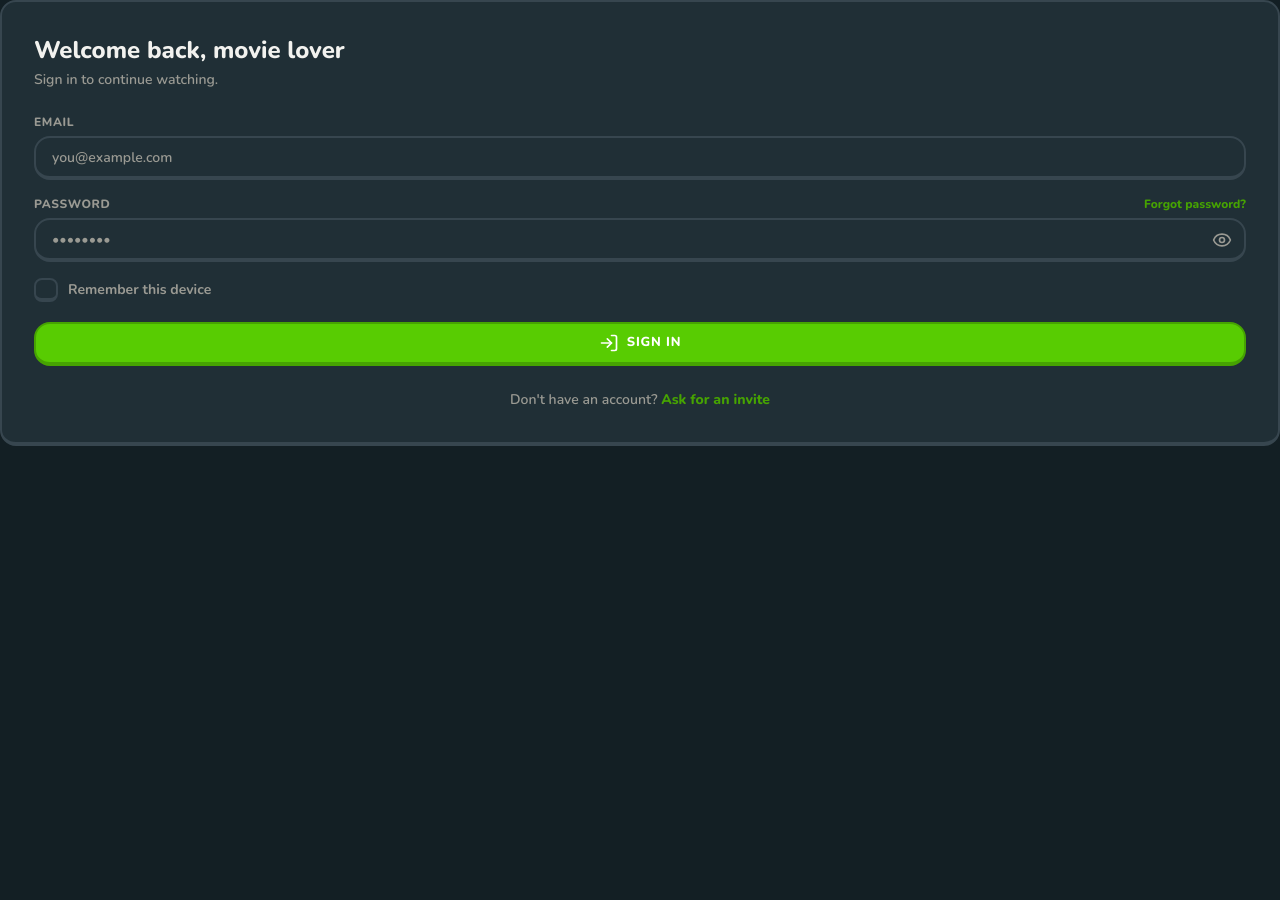
Scenario: ViewerLoginForm › opens the ask-for-invite dialog with admin contact info instead of navigating
Click the button "Ask for an invite" at {"x": 716, "y": 400}, box [661,390,770,410]
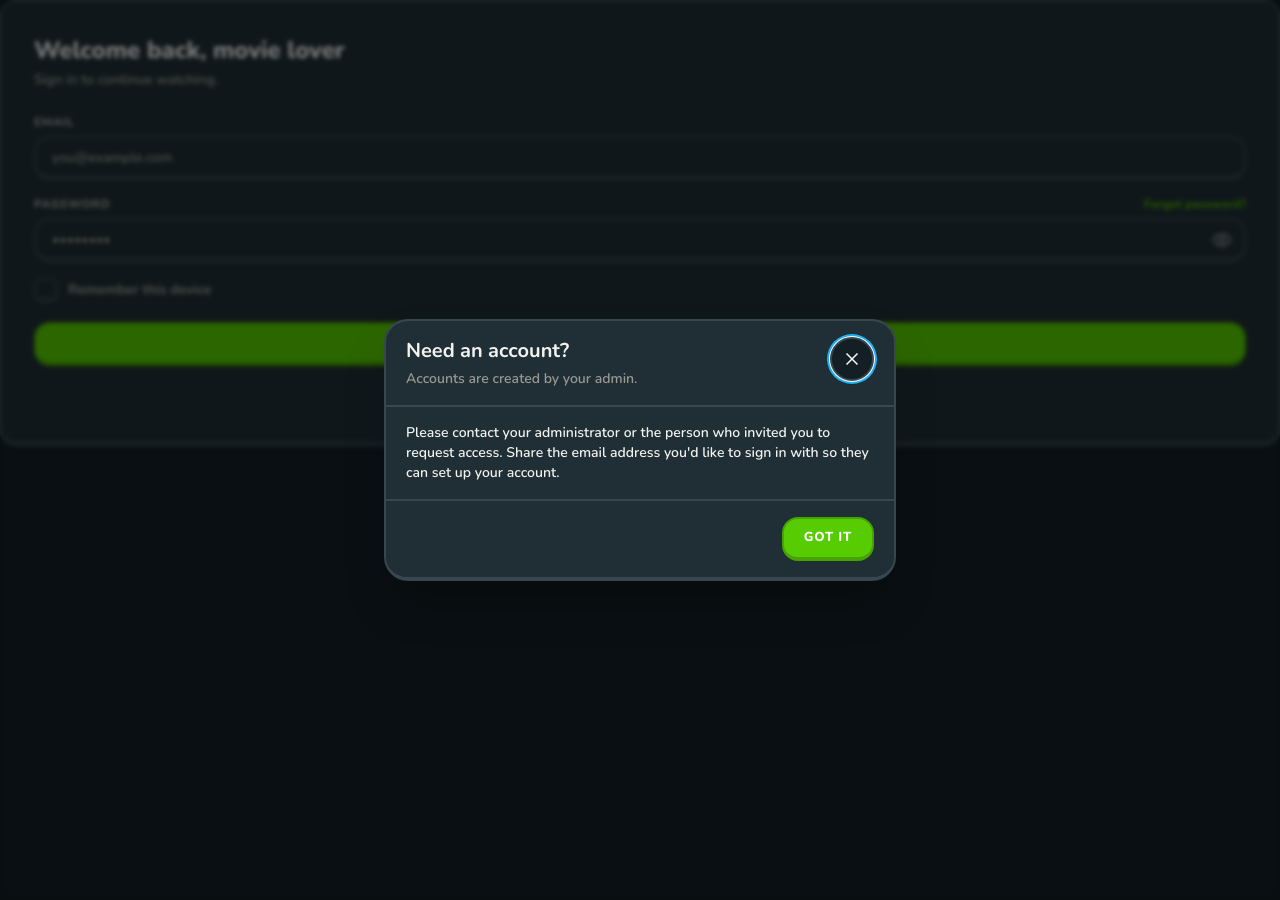
expect the dialog "Need an account" is shown: met, box [384,319,896,581]
expect the text "Accounts are created by your admin." is shown: met, box [406,369,637,388]
